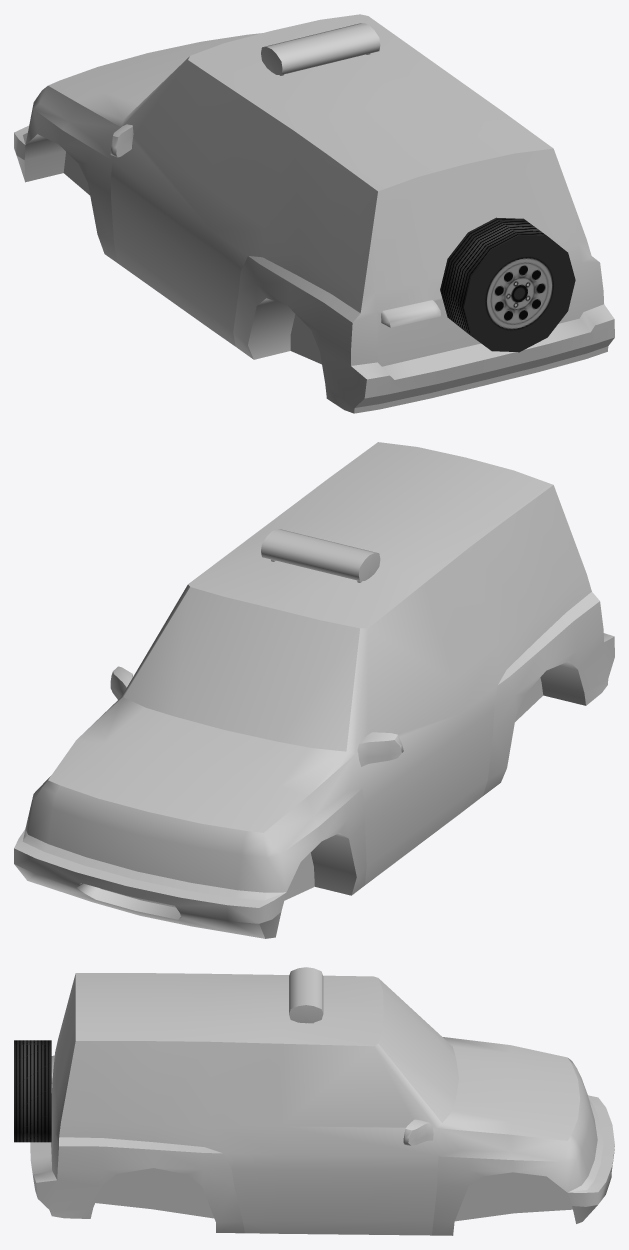
The model's file is vehicle_fhqsidekicklwbranger.fbx.
3 views of the same model, one above another, from view 1: azimuth 30°, elevation 25°; view 2: azimuth 150°, elevation 25°; view 3: azimuth 270°, elevation 25° (orthographic). The views are drawn at different scales.
Parts seen in each view (by area): view 1: fhqVitaraLWBRanger, VitaraLWBSpare; view 2: fhqVitaraLWBRanger; view 3: fhqVitaraLWBRanger, VitaraLWBSpare.
Part boxes in pixels (x1,y1,x2,y2): fhqVitaraLWBRanger: (14,14,614,413); VitaraLWBSpare: (440,217,575,352); fhqVitaraLWBRanger: (14,442,614,938); fhqVitaraLWBRanger: (30,967,614,1235); VitaraLWBSpare: (14,1040,51,1142).
Size of the model in its own units: 2.11 by 1.76 by 4.74.
